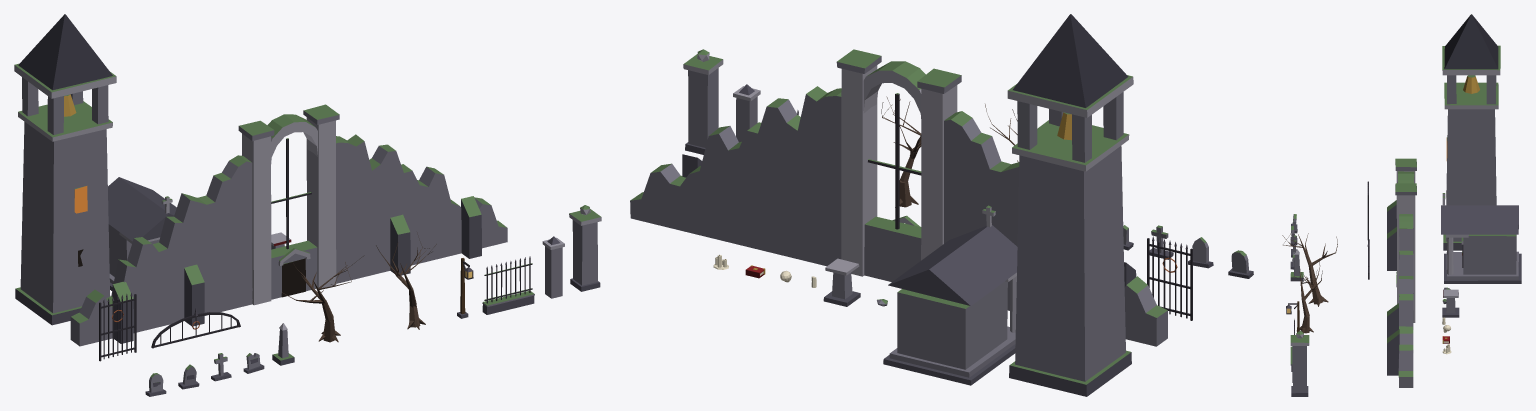
The model's file is lobby_kit.fbx.
The picture shows the model from 3 angles, left to right: view 1: azimuth 30°, elevation 25°; view 2: azimuth 150°, elevation 25°; view 3: azimuth 270°, elevation 25°; orthographic projection. The views are drawn at different scales.
Parts seen in each view (by area): view 1: ChapelFront, BellTower, Crypt, GatePillar, FenceSection, GateLeaf, FencePillar, Tree_A, GateArch, Tree_B; view 2: ChapelFront, BellTower, Crypt, GatePillar, GateLeaf, Pedestal, FencePillar, Tree_B; view 3: BellTower, Crypt, ChapelFront, GatePillar, Tree_A, Tree_B, Pedestal, Grave_Obelisk.
Part boxes in pixels (<box>): ChapelFront: <box>70,104,507,346</box>; BellTower: <box>14,14,116,325</box>; Crypt: <box>108,177,176,290</box>; GatePillar: <box>569,205,601,291</box>; FenceSection: <box>482,256,534,314</box>; GateLeaf: <box>99,292,136,361</box>; FencePillar: <box>542,236,564,298</box>; Tree_A: <box>282,255,364,342</box>; GateArch: <box>151,307,240,348</box>; Tree_B: <box>376,232,436,329</box>; ChapelFront: <box>630,49,1167,346</box>; BellTower: <box>1007,14,1133,396</box>; Crypt: <box>883,205,1017,385</box>; GatePillar: <box>683,49,723,154</box>; GateLeaf: <box>1147,236,1192,320</box>; Pedestal: <box>823,258,860,306</box>; FencePillar: <box>733,84,760,142</box>; Tree_B: <box>881,96,921,207</box>; BellTower: <box>1442,14,1500,250</box>; Crypt: <box>1441,193,1521,283</box>; ChapelFront: <box>1387,158,1416,387</box>; GatePillar: <box>1290,331,1309,396</box>; Tree_A: <box>1282,233,1337,306</box>; Tree_B: <box>1293,258,1322,333</box>; Pedestal: <box>1442,289,1459,317</box>; Grave_Obelisk: <box>1290,249,1303,281</box>.
Size of the model in its own units: 57.09 by 35.42 by 33.85.
